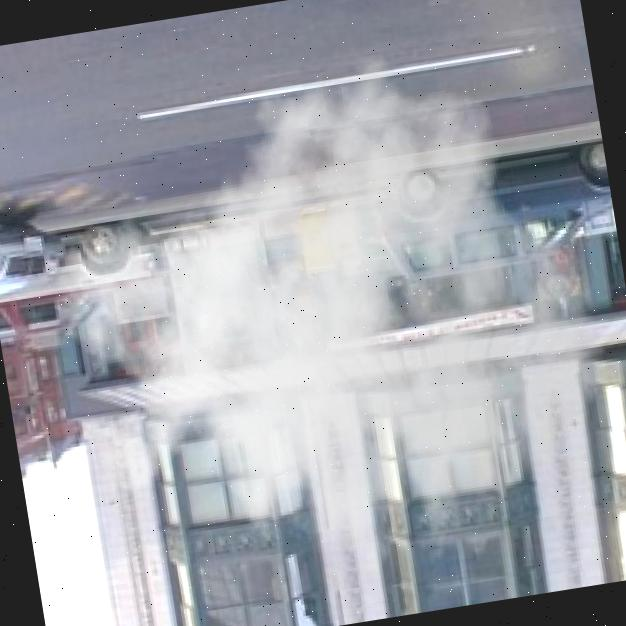smoke: (19, 13, 626, 626)
